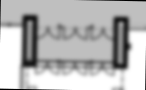double door: (89, 60, 116, 78), (61, 60, 88, 76), (36, 23, 61, 40), (35, 59, 60, 76), (62, 25, 88, 40), (90, 26, 115, 41)
